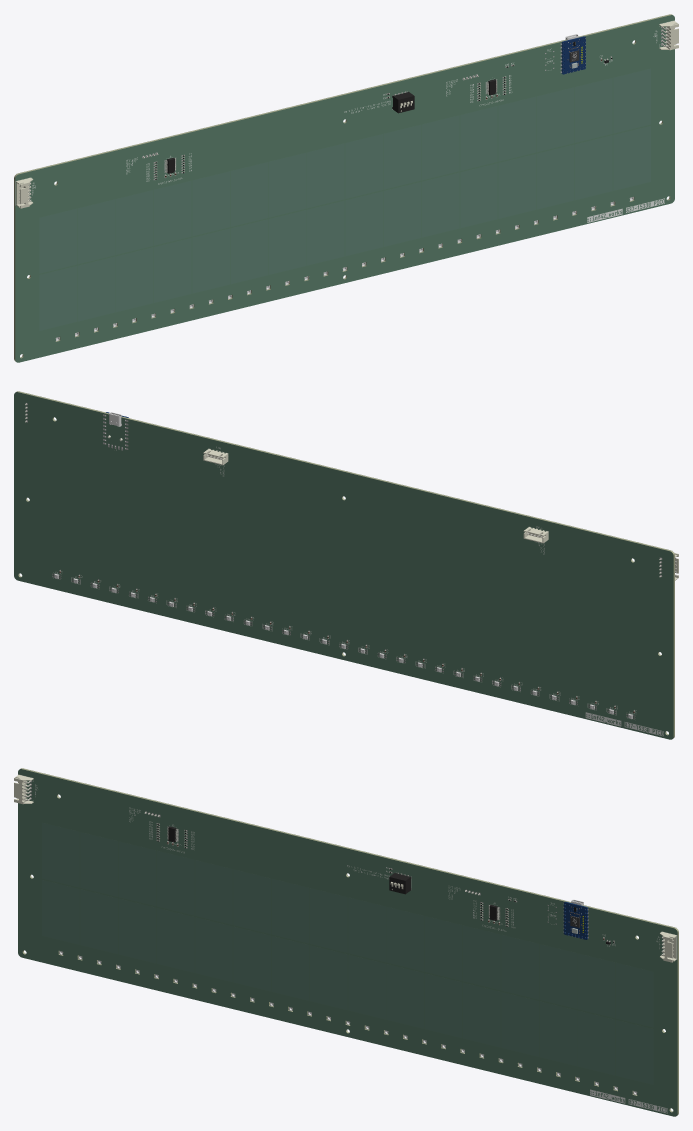
The model's file is slidrr-cy8c.obj.
3 renders of one model, top to bottom at view 1: azimuth 30°, elevation 25°; view 2: azimuth 150°, elevation 25°; view 3: azimuth 330°, elevation 25°, orthographic.
Parts seen in each view (by area): view 1: obj8, obj3, obj15, obj1, obj16, obj23, obj18; view 2: obj8, obj15, obj1, obj21, obj16; view 3: obj8, obj3, obj15, obj1, obj16, obj23, obj18, obj21.
Part boxes in pixels (x1,y1,x2,y2): obj8: (15,15,674,362); obj3: (40,56,650,329); obj15: (14,14,674,361); obj1: (15,20,674,222); obj16: (16,20,678,208); obj23: (561,36,585,74); obj18: (167,60,608,173); obj8: (14,392,673,739); obj15: (14,391,674,738); obj1: (53,572,663,736); obj21: (54,574,632,718); obj16: (203,449,678,580); obj8: (18,769,677,1116); obj3: (42,811,652,1083); obj15: (18,768,678,1115); obj1: (18,774,677,1113); obj16: (14,774,676,962); obj23: (563,901,587,939); obj18: (168,826,610,944); obj21: (59,951,637,1094).
Bounding box in the file's own units: 500 × 138 × 17.28.
